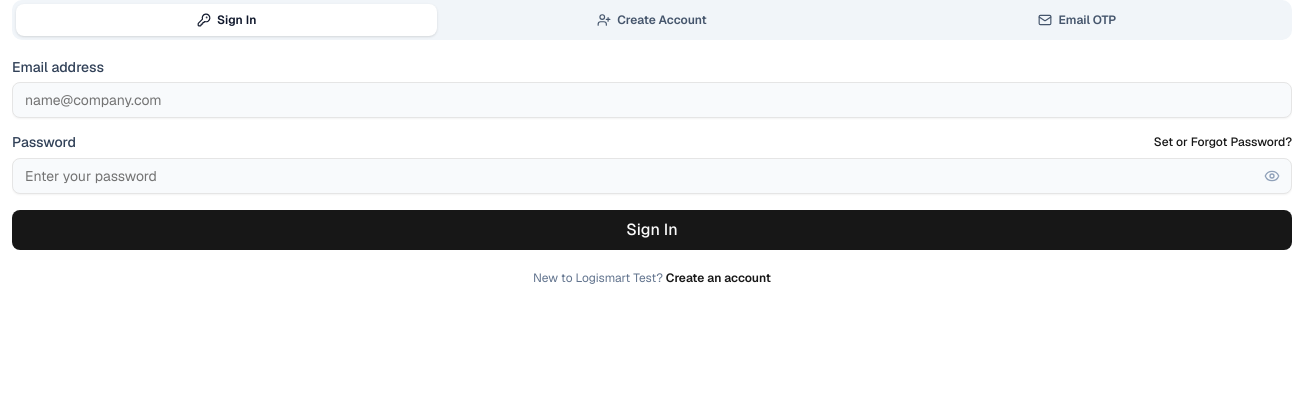
Test: LoginForm Email OTP never creates accounts (C-08 consent) › requests the OTP with shouldCreateUser=false and explains an unknown email
Click the tab with test id "tab-otp". click: [1077, 20]
box: [867,4,1288,36]
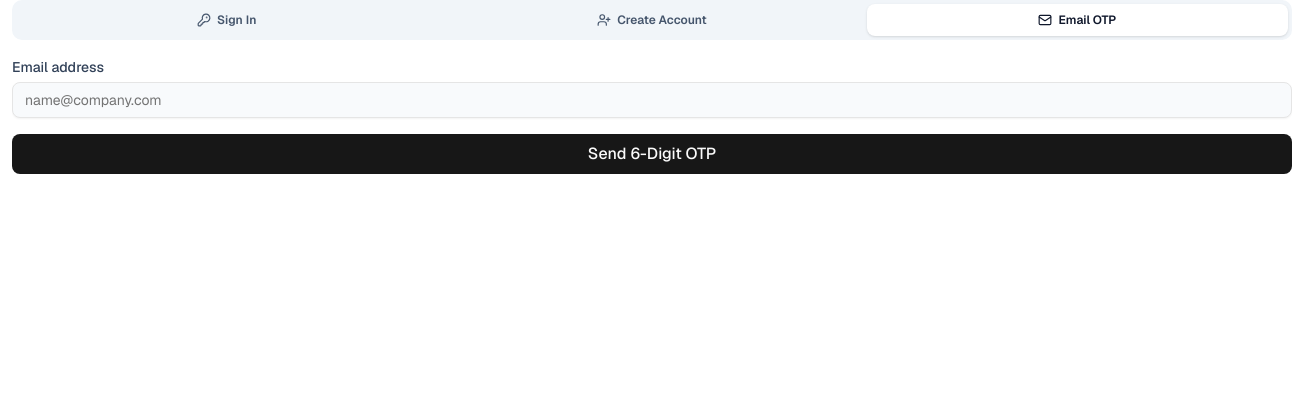
Type "stranger@example.invalid" into the field labelled "Email address". click: [652, 100]
box: [12,82,1292,118]
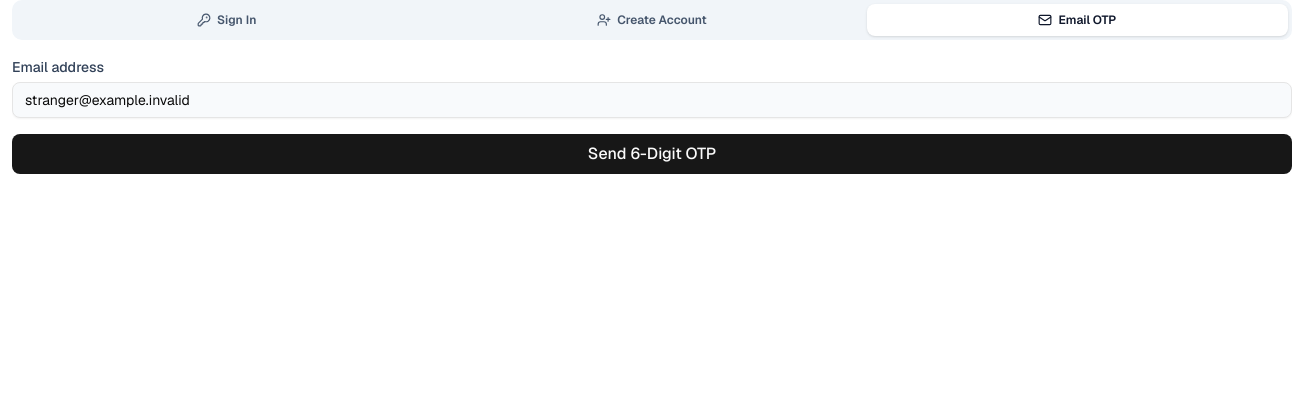
Submit the form "Send 6-Digit OTP", box [12,60,1292,174]
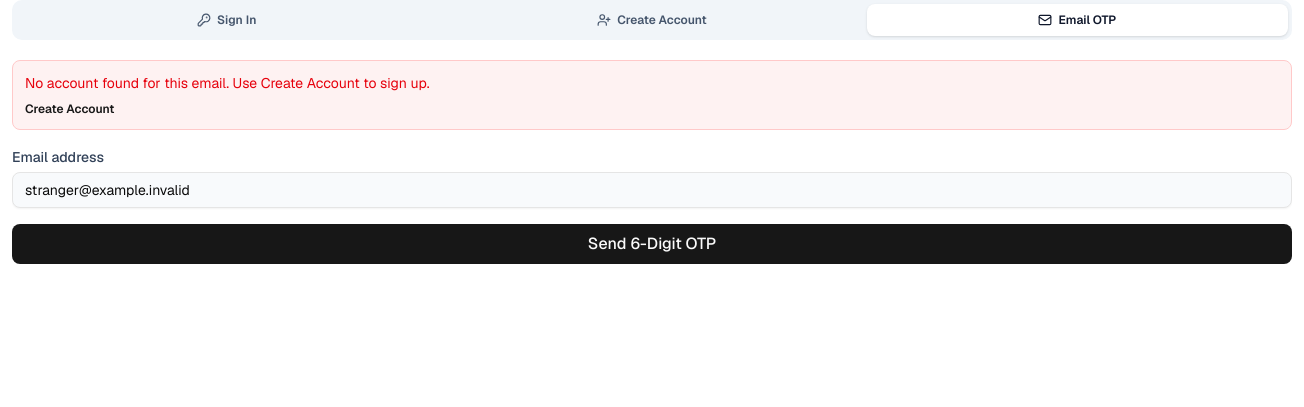
Expected: the text "No account found for this email. Use Create Account to sign up." is shown, [25,74,430,92]
Click the button with test id "otp-no-account-signup". click: [70, 109]
box: [25,101,114,117]
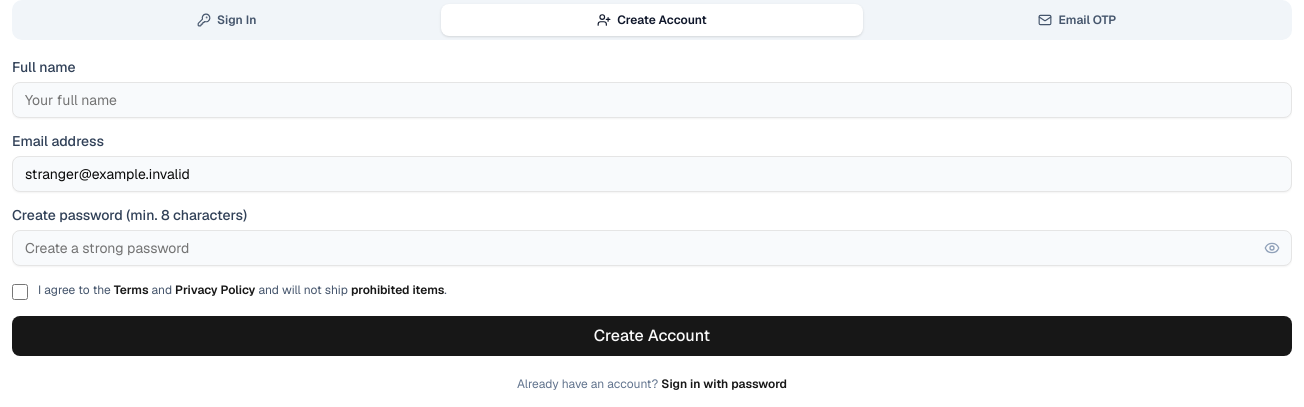
Expected: the checkbox with test id "signup-terms-checkbox" is shown, [12,284,28,300]
